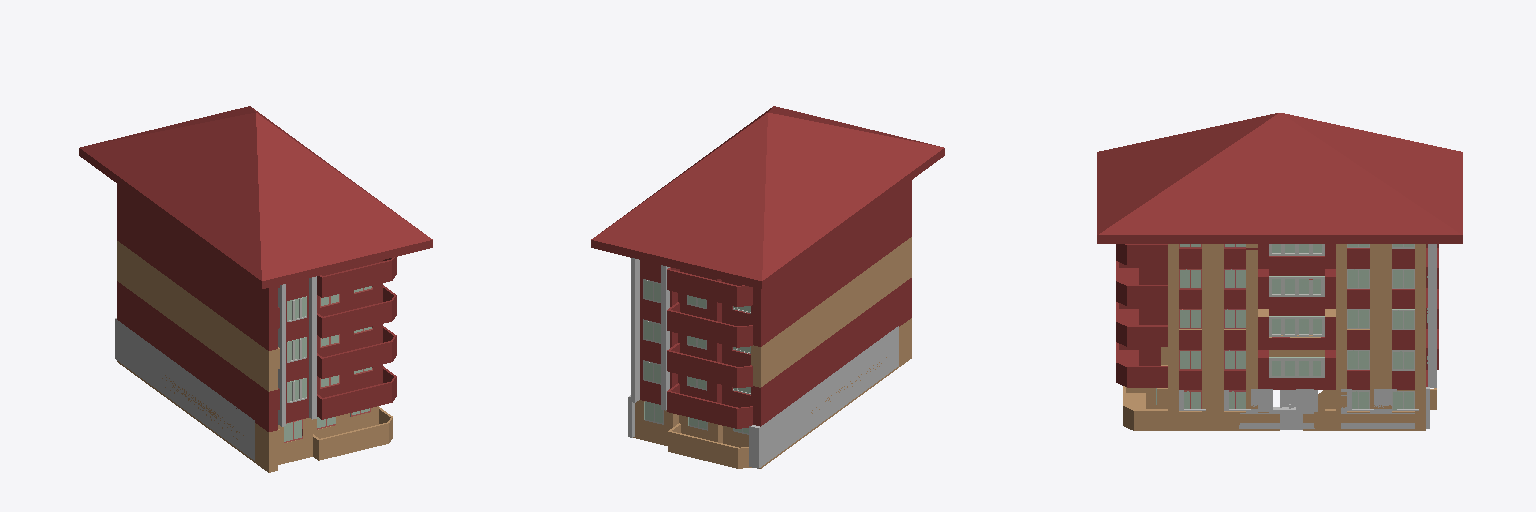
The model's file is House.obj.
3 renders of one model, left to right at view 1: azimuth 30°, elevation 25°; view 2: azimuth 150°, elevation 25°; view 3: azimuth 270°, elevation 25°, orthographic.
Visible parts, largest first — view 1: Cube_Cube.131, firstkat.003_Cube.086, firstkat.002_Cube.059, firstkat_Cube.013, bottom_front_Cube, bottomright.000_Cube.007, salonkat_Cube.010, salonkat.001_Cube.058, salonkat.002_Cube.084, firstkat.004_Cube.109, salonkat.003_Cube.108, firstkat.001_Cube.022 (+2 smaller); view 2: Cube_Cube.131, firstkat.003_Cube.086, firstkat.002_Cube.059, bottom_front_Cube, firstkat_Cube.013, bottomleft.000_Cube.001, bottomleft.003_Cube.093, bottomleft.002_Cube.066, bottomleft.001_Cube.031, firstkat.004_Cube.109, bottomleft.004_Cube.116, Cube.003_Cube.130 (+2 smaller); view 3: Cube_Cube.131, firstkat.002_Cube.059, firstkat_Cube.013, firstkat.003_Cube.086, firstkat.001_Cube.022, firstkat.004_Cube.109, bottom_front_Cube, salonkat_Cube.010, salonkat.001_Cube.058, salonkat.002_Cube.084, bottomright.000_Cube.007, Cube.003_Cube.130 (+7 smaller).
Boxes of the visible parts, x1,y1,x2,y2 form: Cube_Cube.131: [79, 106, 432, 288]; firstkat.003_Cube.086: [117, 200, 279, 350]; firstkat.002_Cube.059: [117, 241, 279, 391]; firstkat_Cube.013: [117, 281, 279, 431]; bottom_front_Cube: [115, 318, 254, 460]; bottomright.000_Cube.007: [278, 406, 392, 464]; salonkat_Cube.010: [286, 365, 396, 422]; salonkat.001_Cube.058: [286, 324, 396, 381]; salonkat.002_Cube.084: [286, 283, 396, 341]; firstkat.004_Cube.109: [117, 184, 279, 310]; salonkat.003_Cube.108: [286, 257, 396, 300]; firstkat.001_Cube.022: [117, 361, 279, 472]; Cube_Cube.131: [591, 106, 944, 288]; firstkat.003_Cube.086: [751, 196, 911, 346]; firstkat.002_Cube.059: [751, 237, 911, 387]; bottom_front_Cube: [628, 326, 898, 468]; firstkat_Cube.013: [751, 278, 911, 426]; bottomleft.000_Cube.001: [635, 400, 751, 468]; bottomleft.003_Cube.093: [640, 278, 752, 347]; bottomleft.002_Cube.066: [640, 319, 752, 387]; bottomleft.001_Cube.031: [640, 359, 752, 428]; firstkat.004_Cube.109: [753, 180, 911, 306]; bottomleft.004_Cube.116: [640, 260, 752, 306]; Cube.003_Cube.130: [631, 258, 639, 402]; Cube_Cube.131: [1097, 113, 1462, 243]; firstkat.002_Cube.059: [1161, 266, 1425, 349]; firstkat_Cube.013: [1161, 306, 1425, 389]; firstkat.003_Cube.086: [1168, 269, 1425, 308]; firstkat.001_Cube.022: [1161, 347, 1425, 430]; firstkat.004_Cube.109: [1168, 244, 1425, 268]; bottom_front_Cube: [1179, 387, 1429, 428]; salonkat_Cube.010: [1116, 342, 1167, 387]; salonkat.001_Cube.058: [1116, 302, 1167, 346]; salonkat.002_Cube.084: [1116, 261, 1167, 305]; bottomright.000_Cube.007: [1123, 365, 1167, 430]; Cube.003_Cube.130: [1428, 244, 1436, 387].
Bounding box in the file's own units: 44.02 × 70.65 × 81.52.